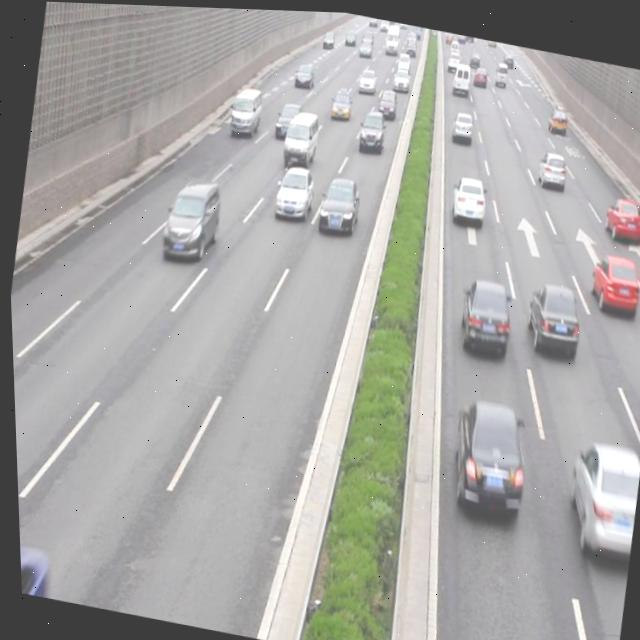car: (437, 391, 532, 525), (553, 432, 640, 565), (449, 269, 515, 361), (157, 176, 222, 263), (518, 275, 583, 357), (583, 249, 640, 317), (314, 172, 362, 235), (269, 159, 315, 220), (445, 169, 488, 225), (598, 187, 640, 241), (16, 542, 46, 597), (533, 145, 567, 188), (355, 107, 386, 153), (273, 99, 304, 139)
truck: (279, 108, 320, 164), (227, 82, 263, 136)
